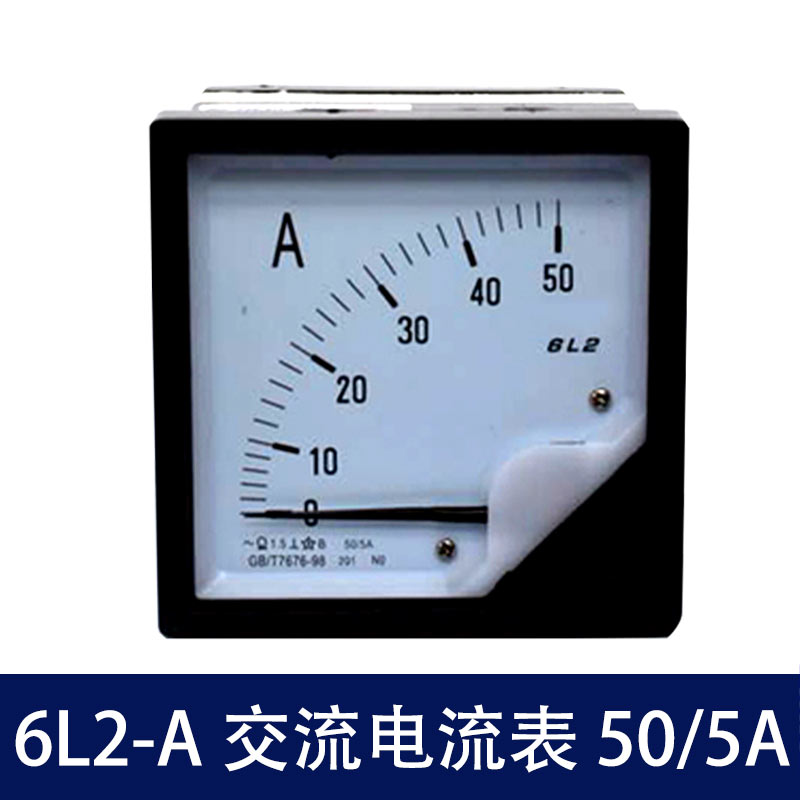pointer: (181, 150, 650, 597)
